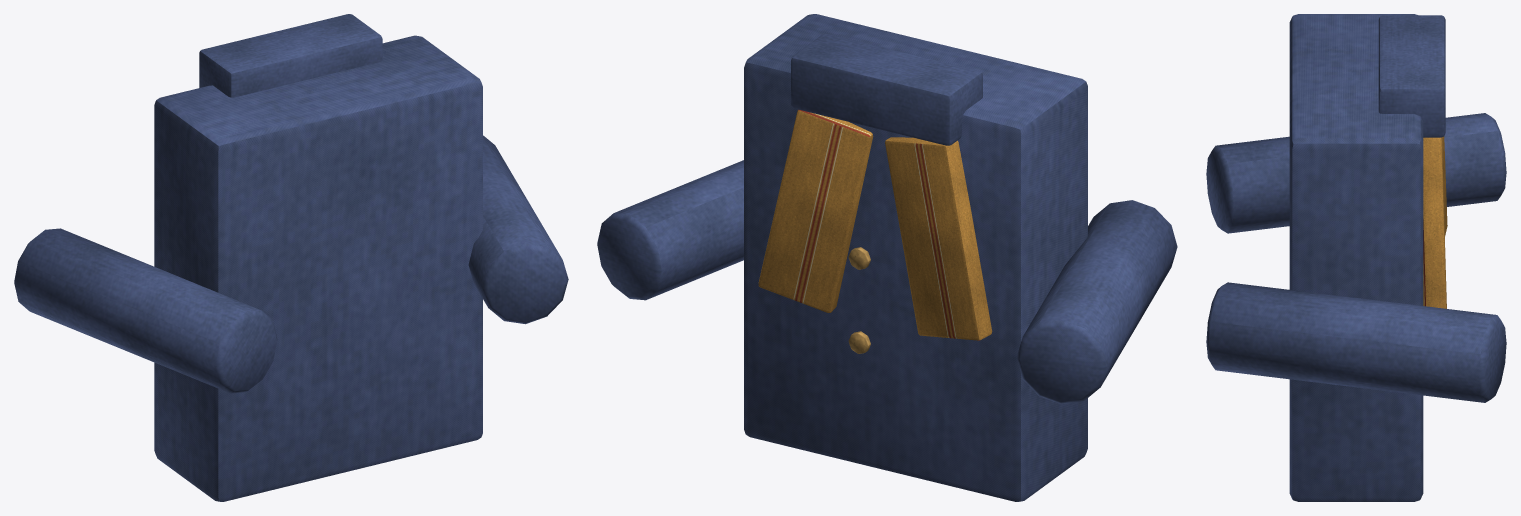
File: basic_jacket.glb
3 views of the same model, side by side, from view 1: azimuth 30°, elevation 25°; view 2: azimuth 150°, elevation 25°; view 3: azimuth 270°, elevation 25° (orthographic). The views are drawn at different scales.
Visible parts, largest first — view 1: basic_jacket; view 2: basic_jacket; view 3: basic_jacket.
Part boxes in pixels (box(x1,y1,x2,y2)): basic_jacket: box(14, 14, 568, 501); basic_jacket: box(597, 14, 1177, 501); basic_jacket: box(1206, 14, 1506, 501).
Size of the model in its own units: 0.5064 by 0.385 by 0.2697.
3 materials, 3 textured.
